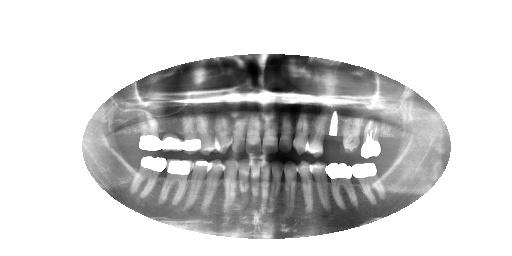i10healthy: (233, 154, 254, 219)
i11healthy: (219, 152, 241, 217)
i12healthy: (202, 151, 226, 216)
i13healthy: (181, 152, 215, 216)
i14healthy: (156, 154, 195, 205)
i15healthy: (127, 149, 173, 207)
i2healthy: (349, 155, 387, 208)
i3healthy: (322, 158, 362, 213)
i4healthy: (306, 154, 337, 216)
i5healthy: (294, 156, 317, 218)
i6healthy: (280, 158, 303, 221)
i7healthy: (269, 155, 288, 217)
i8healthy: (255, 156, 274, 219)
i9healthy: (245, 156, 265, 215)
u10healthy: (228, 104, 250, 157)
u11healthy: (211, 105, 235, 159)
u12healthy: (193, 103, 223, 158)
u13healthy: (179, 107, 203, 158)
u14healthy: (161, 107, 186, 157)
u15healthy: (134, 103, 167, 159)
u2healthy: (358, 112, 385, 163)
u3chipped: (338, 105, 366, 158)
u4loss: (323, 100, 347, 155)
u5healthy: (303, 108, 328, 160)
u6healthy: (291, 108, 313, 157)
u7healthy: (277, 106, 295, 155)
u8healthy: (259, 105, 282, 158)
u9healthy: (242, 104, 265, 157)
